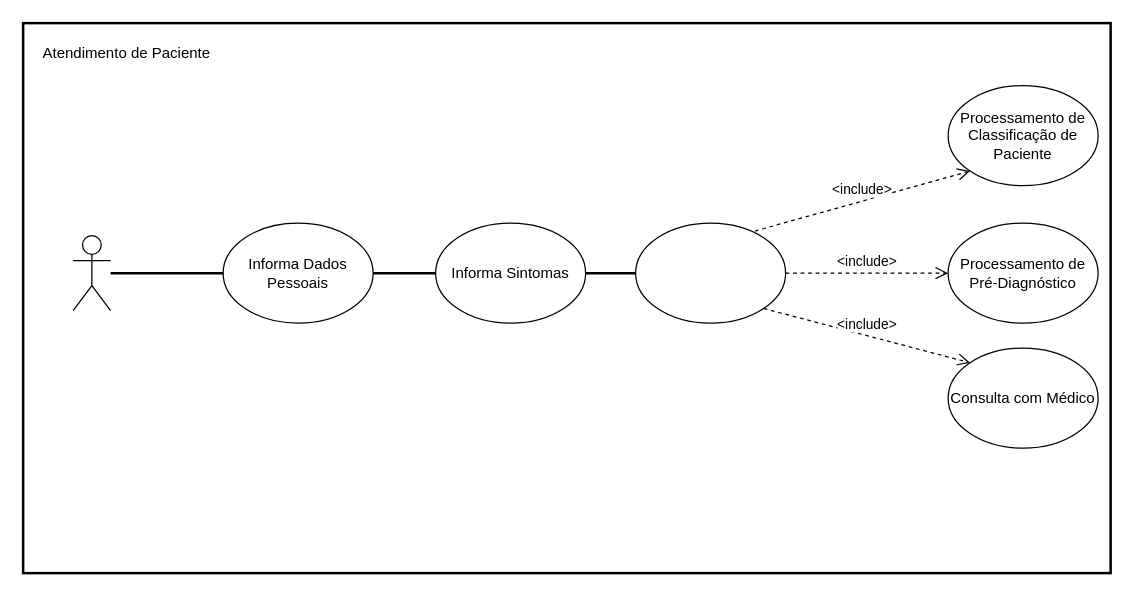
Some shapes in this 1133 by 595 pixel diagram are drawn without their labels. Each missing label, with the centre of its shape:
"Atendimento" goes at point 710,272.
"Paciente" goes at point 91,272.
